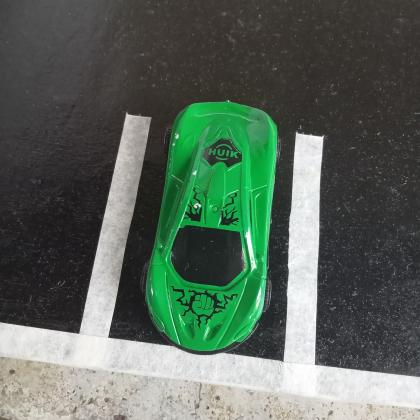Car: (142, 100, 282, 358)
